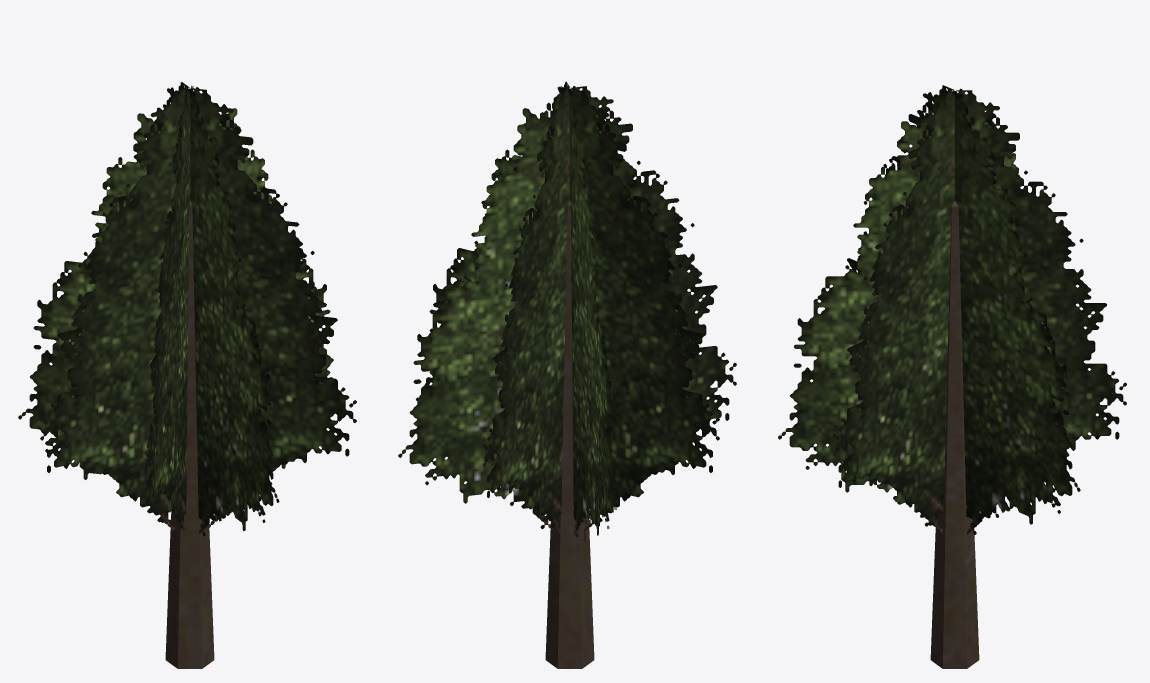
The model's file is tree08.glb.
The picture shows the model from 3 angles, left to right: view 1: azimuth 30°, elevation 25°; view 2: azimuth 150°, elevation 25°; view 3: azimuth 270°, elevation 25°; orthographic projection.
Visible parts, largest first — view 1: tree08; view 2: tree08; view 3: tree08.
Boxes of the visible parts, <box> form: tree08: <box>18,82,356,668</box>; tree08: <box>398,81,736,668</box>; tree08: <box>778,85,1126,668</box>.
Size of the model in its own units: 7.2 by 12.5 by 7.2.
Materials: 1 (1 with a texture image).
